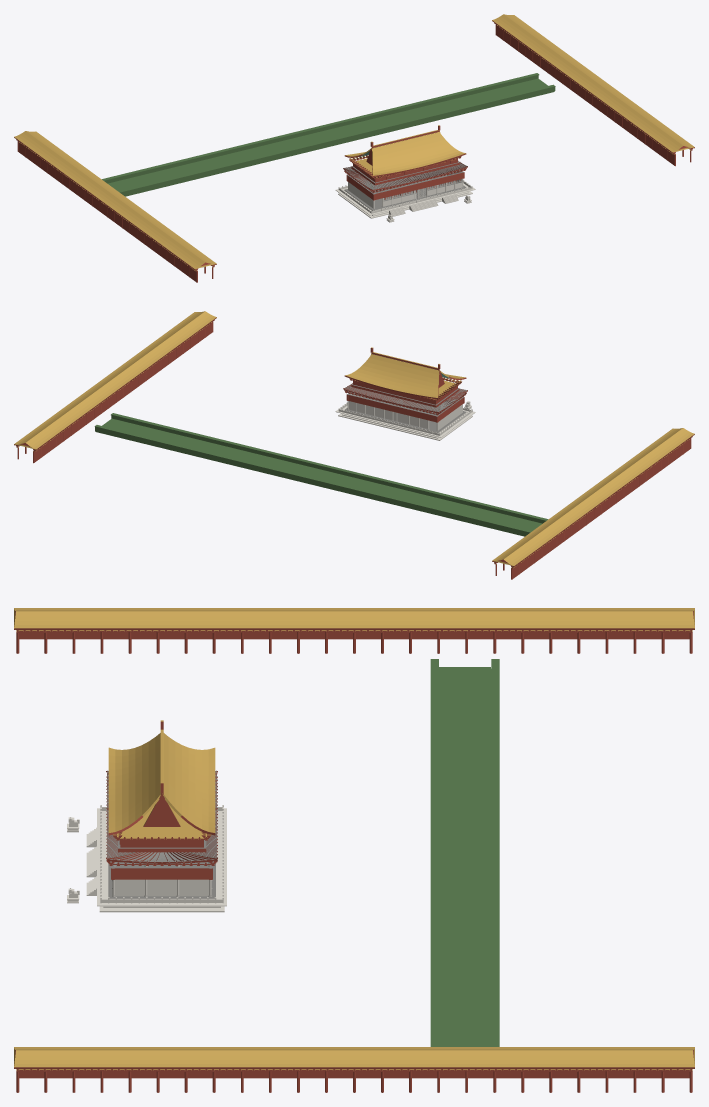
The model's file is r02_taihemen.glb.
3 renders of one model, top to bottom at view 1: azimuth 30°, elevation 25°; view 2: azimuth 150°, elevation 25°; view 3: azimuth 270°, elevation 25°, orthographic. The views are drawn at different scales.
Visible parts, largest first — view 1: r02_taihemen; view 2: r02_taihemen; view 3: r02_taihemen.
Part boxes in pixels (left/top/right/bottom): r02_taihemen: left=14, top=14, right=694, bottom=282; r02_taihemen: left=14, top=311, right=694, bottom=579; r02_taihemen: left=14, top=608, right=694, bottom=1092.
Bounding box in the file's own units: 226 × 28 × 142.
